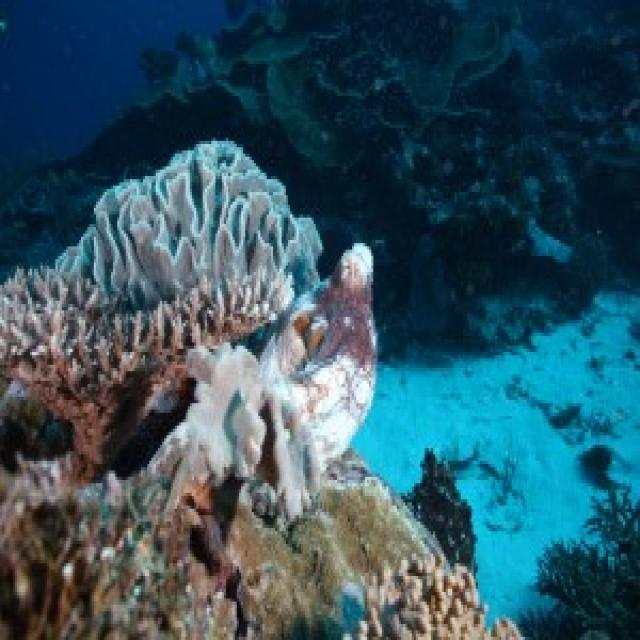Bleached: (150, 244, 372, 516), (1, 270, 283, 465), (59, 142, 321, 308)
Healthy: (344, 558, 522, 638)
